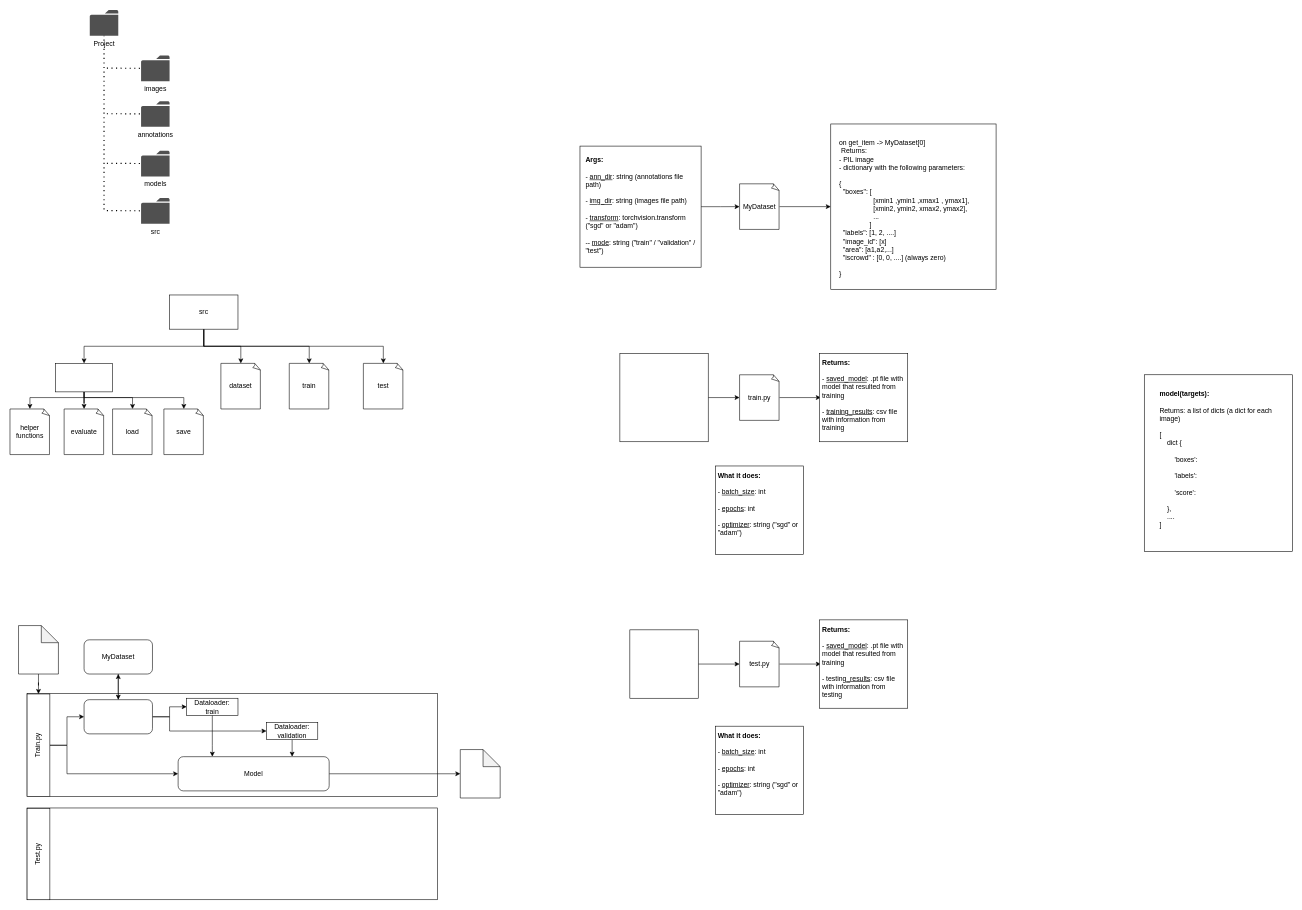
The diagram is 1302 pixels wide and 910 high, and some of its shapes have lost their labels. The centre of each missing label's shape, as x and y in pixels:
Args: - batch_size : int - epochs : int - optimizer : string ("sgd" or "adam"): point (663, 397)
Args: - model_file : path to the model to test: point (663, 663)
config: point (38, 649)
Datapipeline: point (118, 716)
logs: point (480, 773)
utils: point (84, 377)
